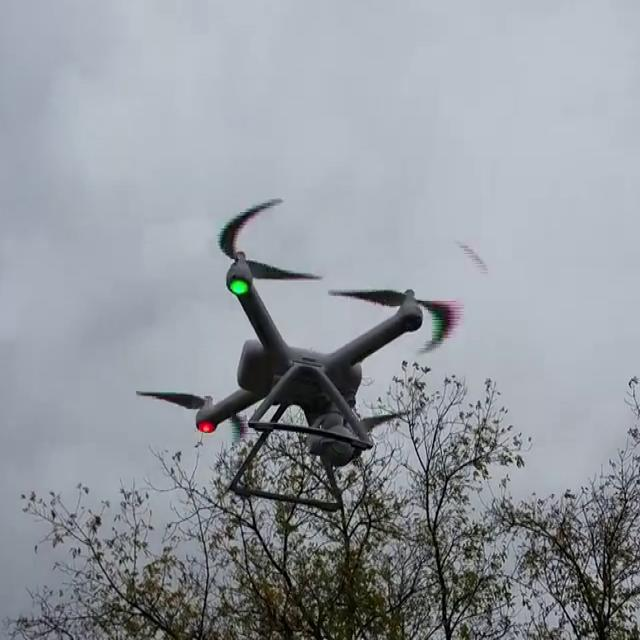drone: (120, 194, 524, 520)
